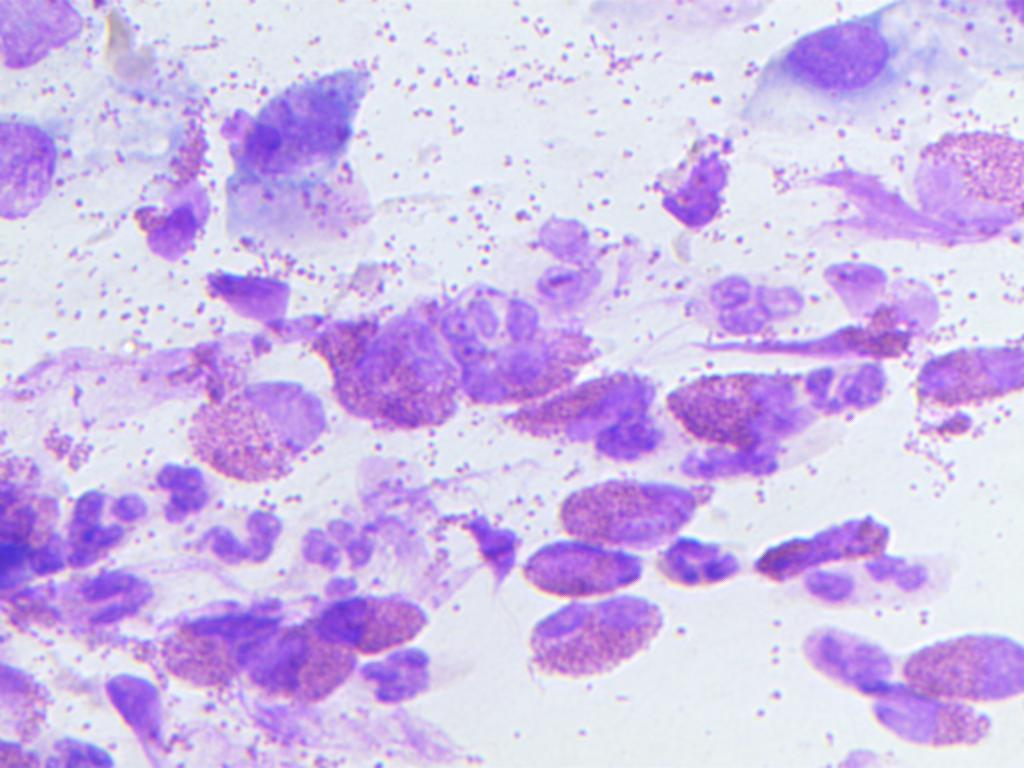artifact: (226, 59, 392, 251), (813, 161, 914, 246), (654, 136, 736, 240), (200, 264, 309, 340), (0, 0, 92, 82), (439, 508, 522, 596), (94, 673, 173, 759), (107, 11, 172, 90)
eosinophil: (440, 276, 600, 407), (312, 306, 466, 436), (129, 101, 220, 271), (903, 130, 1024, 256), (185, 376, 330, 480), (673, 364, 842, 452), (526, 600, 688, 688), (817, 264, 942, 362), (151, 600, 282, 690), (760, 511, 910, 588), (551, 477, 728, 541), (500, 368, 657, 436), (781, 612, 901, 698), (0, 437, 69, 586), (46, 561, 158, 648), (260, 622, 369, 710), (877, 679, 997, 747), (312, 591, 437, 654), (905, 352, 1024, 412), (0, 648, 51, 767)
epithelial: (899, 629, 1023, 698), (522, 546, 651, 604)
lymphocyte: (765, 20, 905, 111)
mast_cell: (0, 103, 70, 237)
neutrophil: (522, 197, 621, 314), (707, 260, 826, 342), (788, 550, 957, 604), (802, 348, 901, 428), (192, 496, 295, 570), (71, 481, 146, 561), (657, 530, 746, 592), (149, 456, 221, 532), (357, 643, 441, 708), (294, 524, 387, 574)
